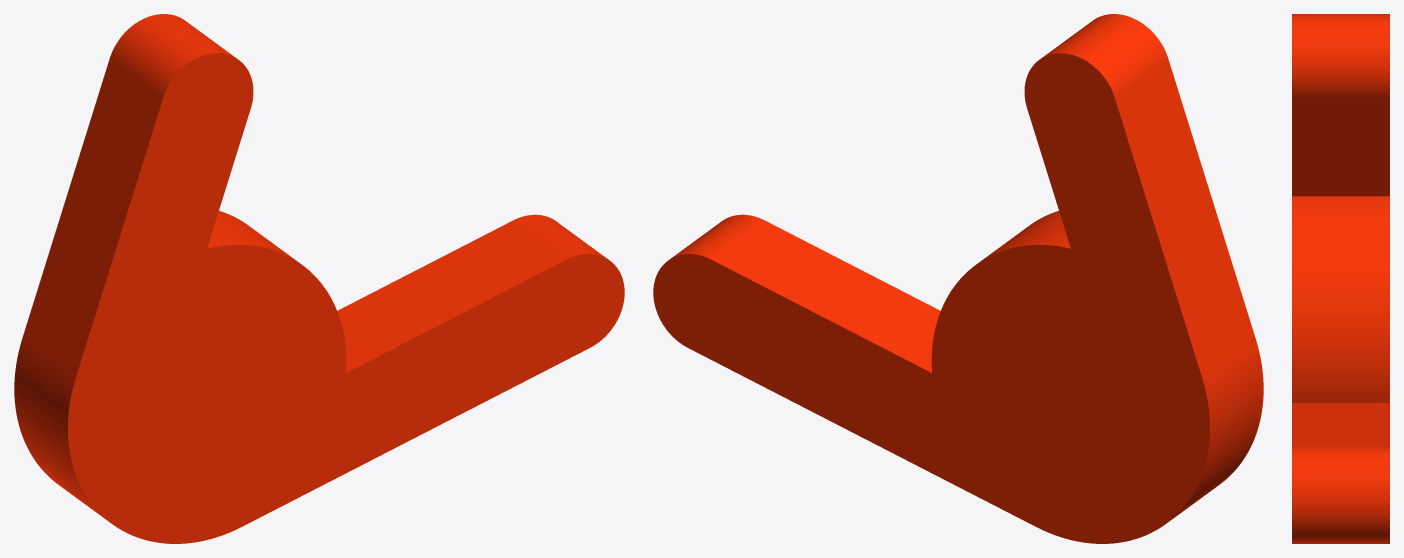
The model's file is elbowConnector.obj.
3 views of the same model, side by side, from view 1: azimuth 30°, elevation 25°; view 2: azimuth 150°, elevation 25°; view 3: azimuth 270°, elevation 25° (orthographic). The views are drawn at different scales.
Parts seen in each view (by area): view 1: ElbowConnector; view 2: ElbowConnector; view 3: ElbowConnector.
Part boxes in pixels (box(x1,y1,x2,y2)): ElbowConnector: box(14, 14, 624, 543); ElbowConnector: box(653, 14, 1263, 543); ElbowConnector: box(1292, 14, 1389, 543).
Size of the model in its own units: 600 by 500 by 100.
